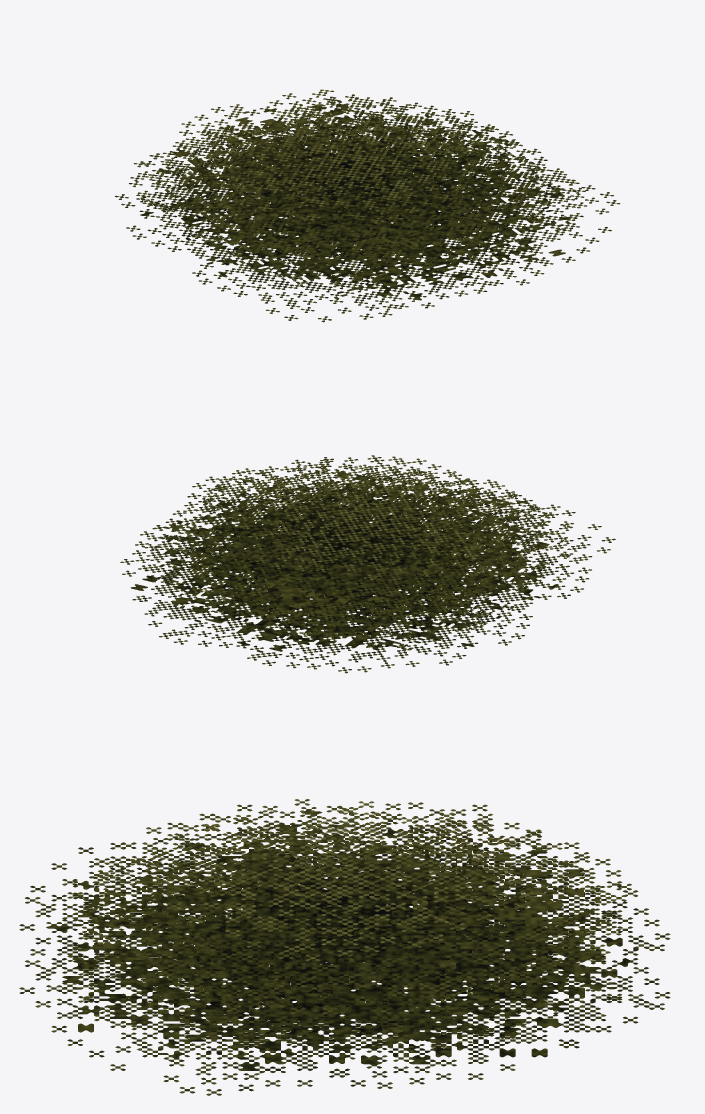
The model's file is heidestruik_groen_1.fbx.
3 renders of one model, top to bottom at view 1: azimuth 30°, elevation 25°; view 2: azimuth 150°, elevation 25°; view 3: azimuth 270°, elevation 25°, orthographic. The views are drawn at different scales.
Parts seen in each view (by area): view 1: heidestruik_groen; view 2: heidestruik_groen; view 3: heidestruik_groen.
Boxes of the visible parts, x1,y1,x2,y2 form: heidestruik_groen: (115,89,620,322); heidestruik_groen: (120,455,615,673); heidestruik_groen: (19,799,670,1095).
Bounding box in the file's own units: 400 × 45 × 400.
